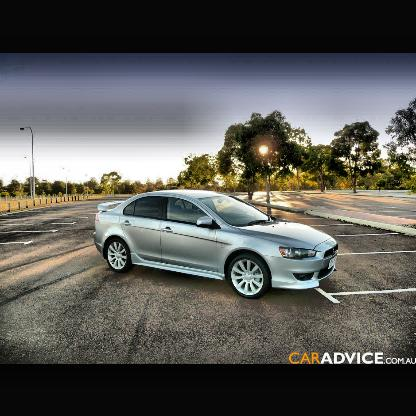Mitsubishi Lancer Sedan 2012: (96, 189, 339, 299)
